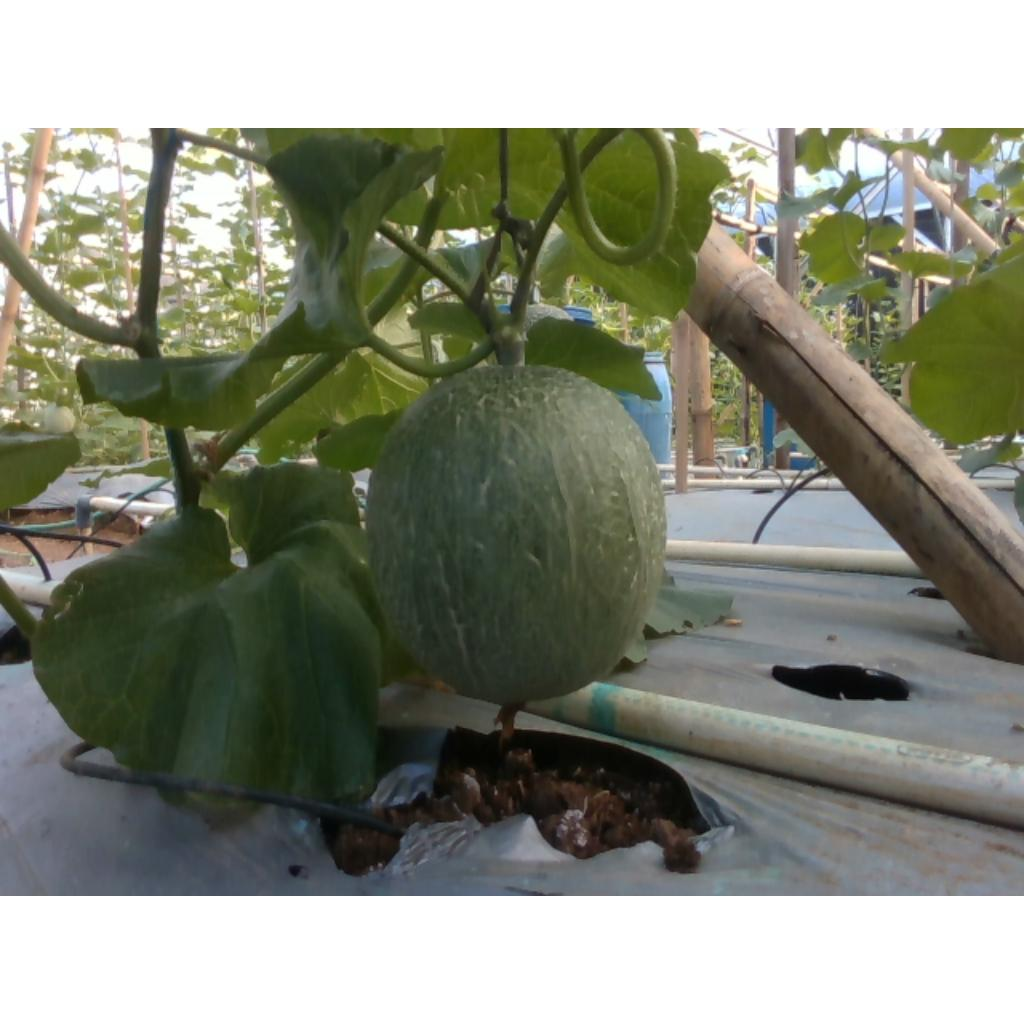melon: (370, 366, 667, 705)
